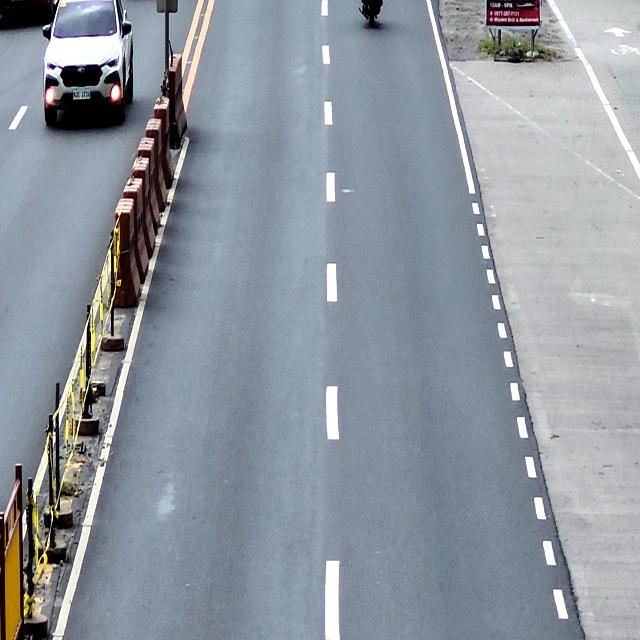Car: (42, 0, 134, 126)
License-Plate: (72, 87, 91, 101)
Motorcycle: (358, 0, 383, 28)
